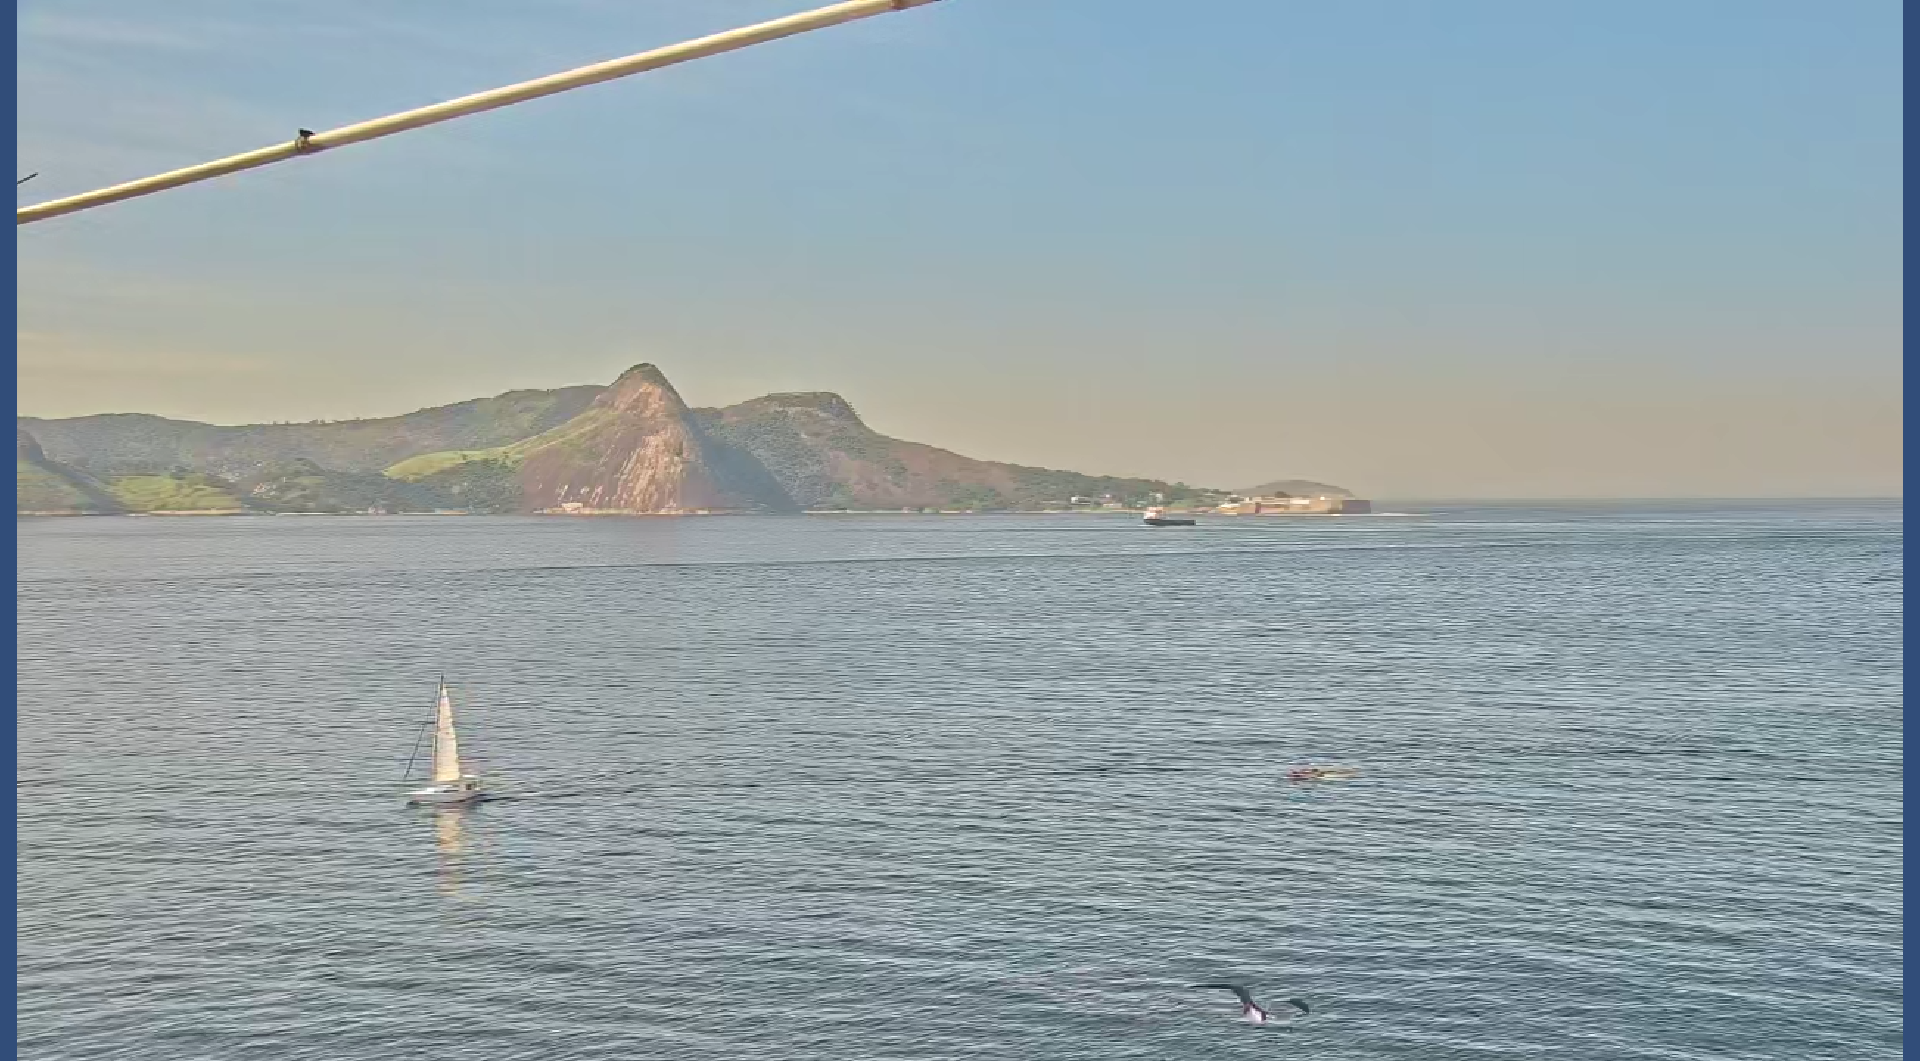Ship3: (392, 660, 487, 813)
Ship5: (1142, 500, 1198, 528)
